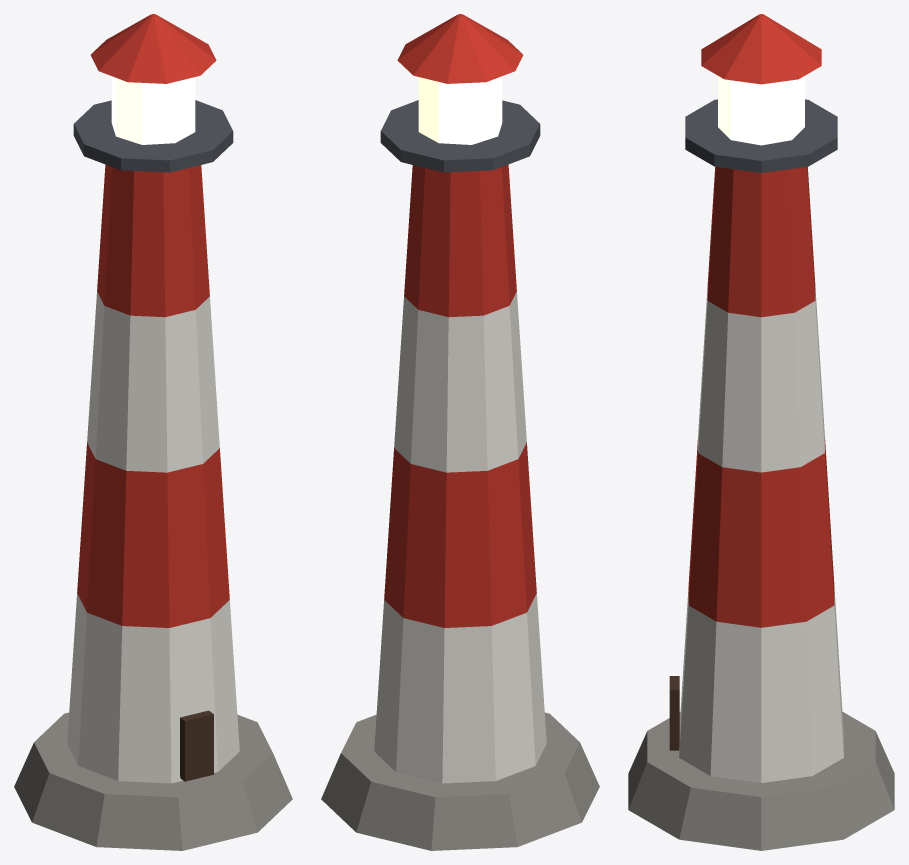
Rendered from lighthouse.glb.
The picture shows the model from 3 angles, left to right: view 1: azimuth 30°, elevation 25°; view 2: azimuth 150°, elevation 25°; view 3: azimuth 270°, elevation 25°; orthographic projection.
Visible parts, largest first — view 1: lighthouse; view 2: lighthouse; view 3: lighthouse.
Boxes of the visible parts, x1,y1,x2,y2 form: lighthouse: [14, 14, 292, 850]; lighthouse: [321, 14, 599, 850]; lighthouse: [628, 14, 894, 850].
Size of what is drawn, in the model's own units: 8.4 by 25.7 by 7.99.
